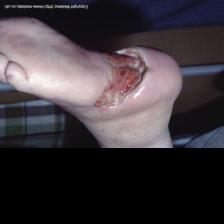Wound: (95, 46, 151, 115)
